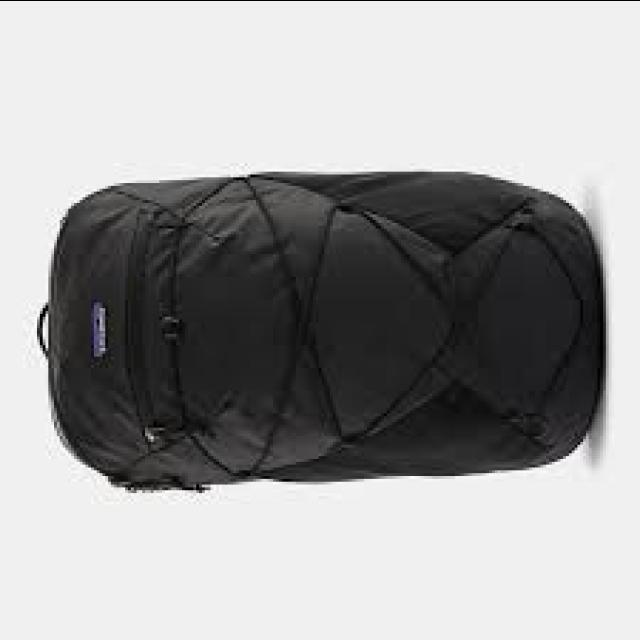backpack: (35, 172, 604, 496)
